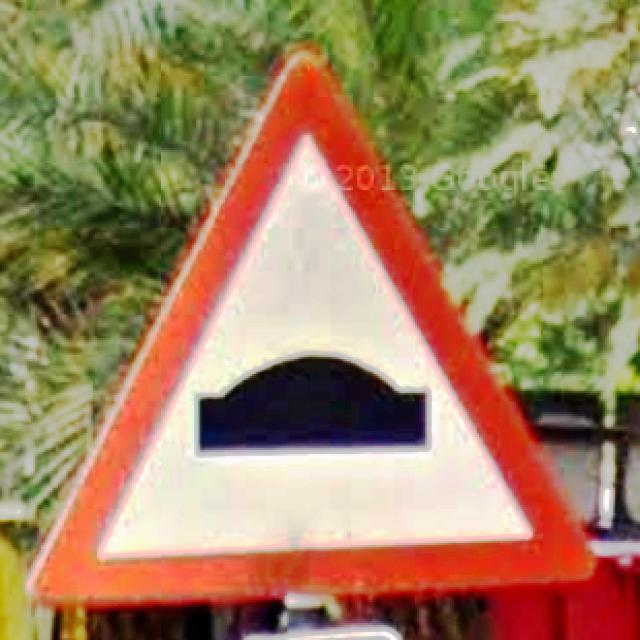hump: (25, 53, 601, 605)
